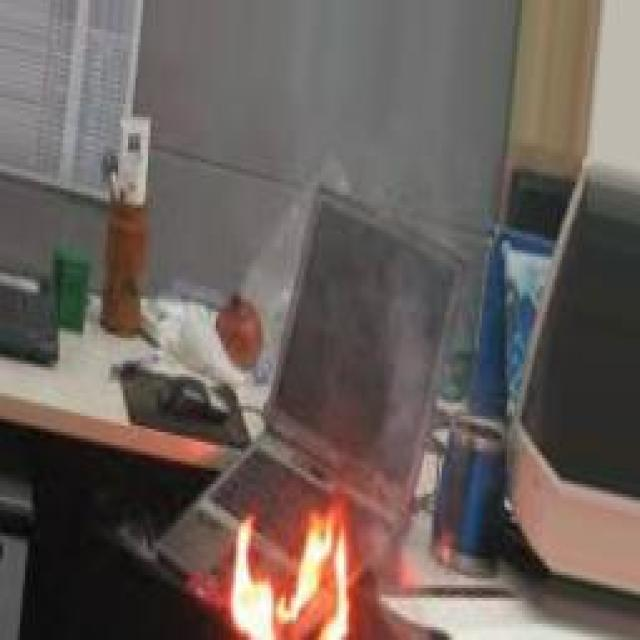Fire: (217, 487, 362, 640)
Smoke: (368, 235, 476, 584)
